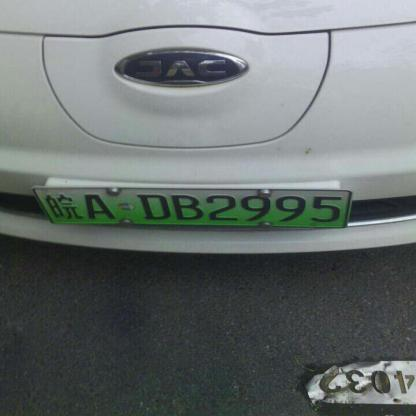lp: (32, 188, 49, 228)
